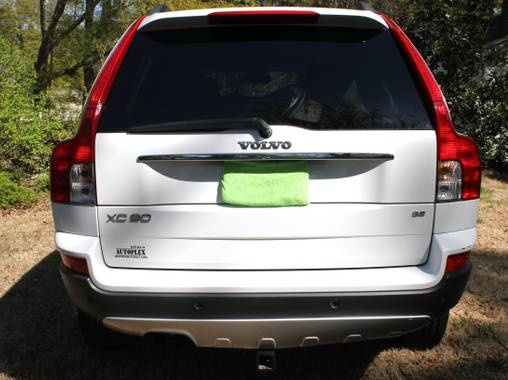volvo: (18, 4, 508, 369)
